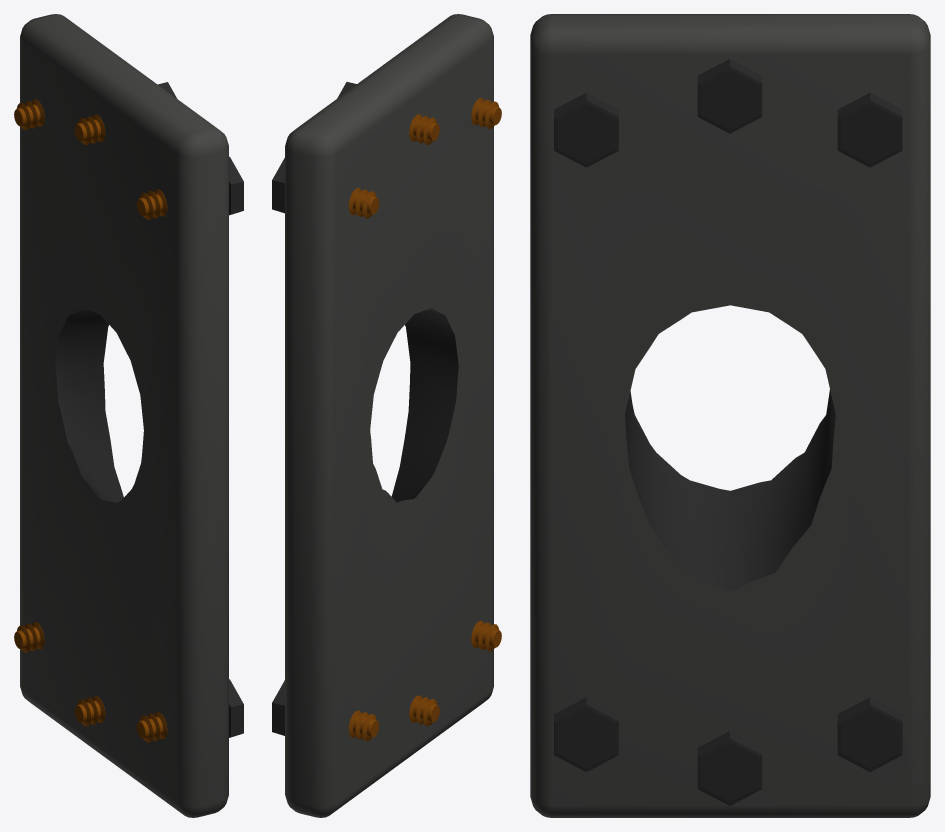
Rendered from Передняя панель.fbx.
3 renders of one model, left to right at view 1: azimuth 30°, elevation 25°; view 2: azimuth 150°, elevation 25°; view 3: azimuth 270°, elevation 25°, orthographic. The views are drawn at different scales.
Parts seen in each view (by area): view 1: Cube_13, Cylinder_2, Передняя_панель; view 2: Cube_13, Cylinder_2, Передняя_панель; view 3: Cube_13, Передняя_панель, Cylinder_2.
Boxes of the visible parts, x1,y1,x2,y2 form: Cube_13: (20,14,228,817); Cylinder_2: (55,308,123,502); Передняя_панель: (14,82,243,742); Cube_13: (285,14,493,817); Cylinder_2: (391,308,458,502); Передняя_панель: (272,82,501,741); Cube_13: (530,14,930,817); Передняя_панель: (554,59,902,805); Cylinder_2: (625,390,835,591).
Bounding box in the file's own units: 15.95 × 117 × 53.61.
